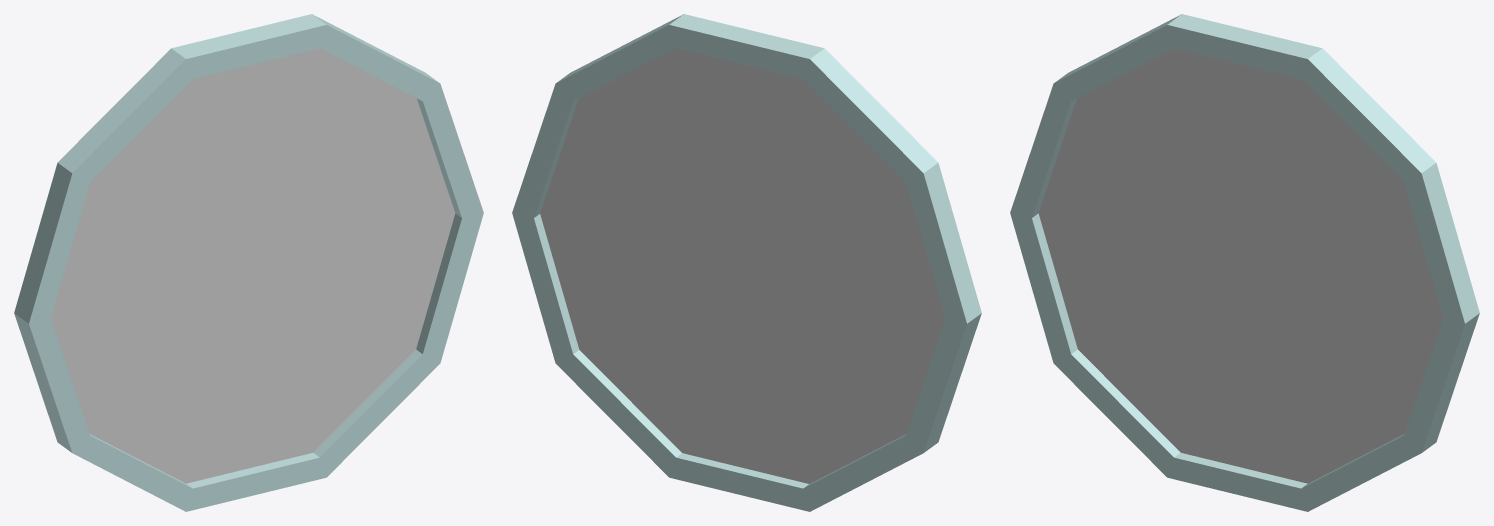
The model's file is endPortal.glb.
The picture shows the model from 3 angles, left to right: view 1: azimuth 30°, elevation 25°; view 2: azimuth 150°, elevation 25°; view 3: azimuth 330°, elevation 25°; orthographic projection.
Visible parts, largest first — view 1: flash, outside; view 2: flash, outside; view 3: flash, outside.
Part boxes in pixels (x1,y1,x2,y2): flash: (50,48,455,483); outside: (14,14,483,511); flash: (540,48,945,483); outside: (512,14,981,511); flash: (1038,48,1443,483); outside: (1010,14,1479,511).
Bounding box in the file's own units: 8 × 7.61 × 0.4513.
